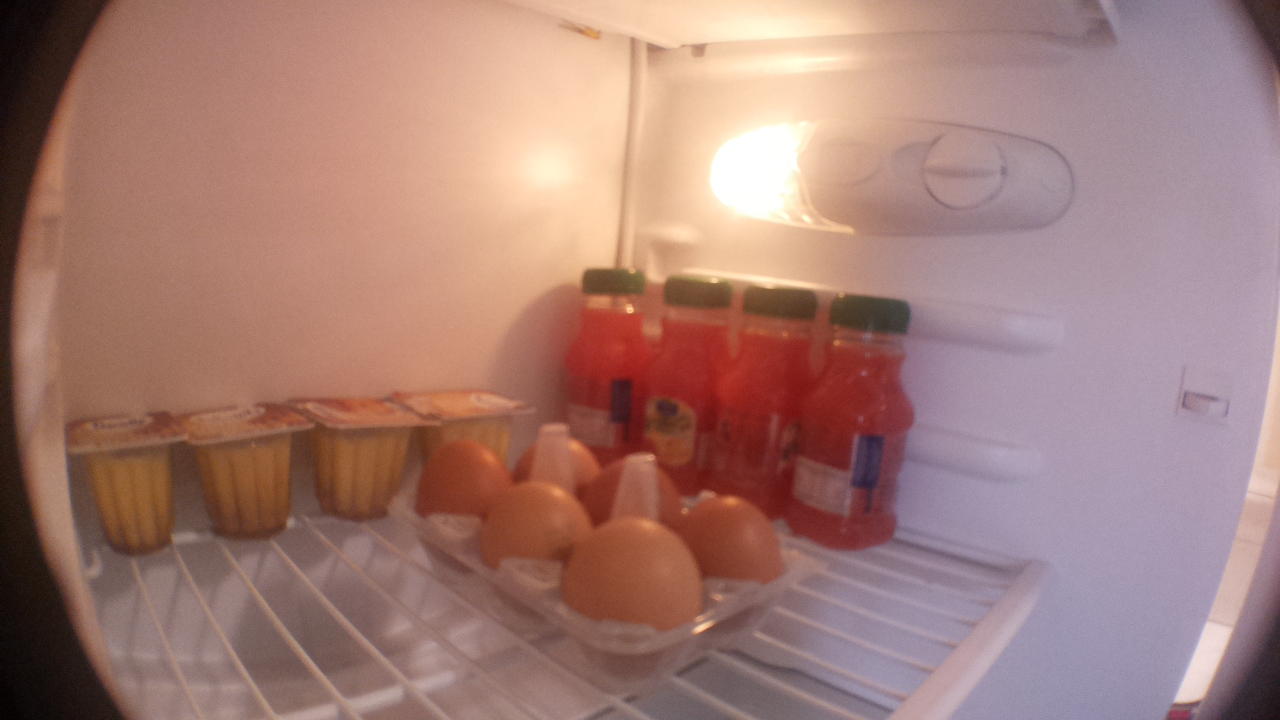caramel: (178, 410, 308, 549), (61, 417, 186, 561), (292, 390, 410, 531), (404, 386, 537, 445)
egg: (568, 504, 704, 696), (686, 473, 789, 646), (474, 475, 601, 587), (415, 439, 500, 540), (601, 447, 690, 525), (525, 431, 600, 495)
juice: (794, 294, 928, 556), (718, 276, 815, 532), (555, 265, 643, 450), (654, 265, 731, 467)
